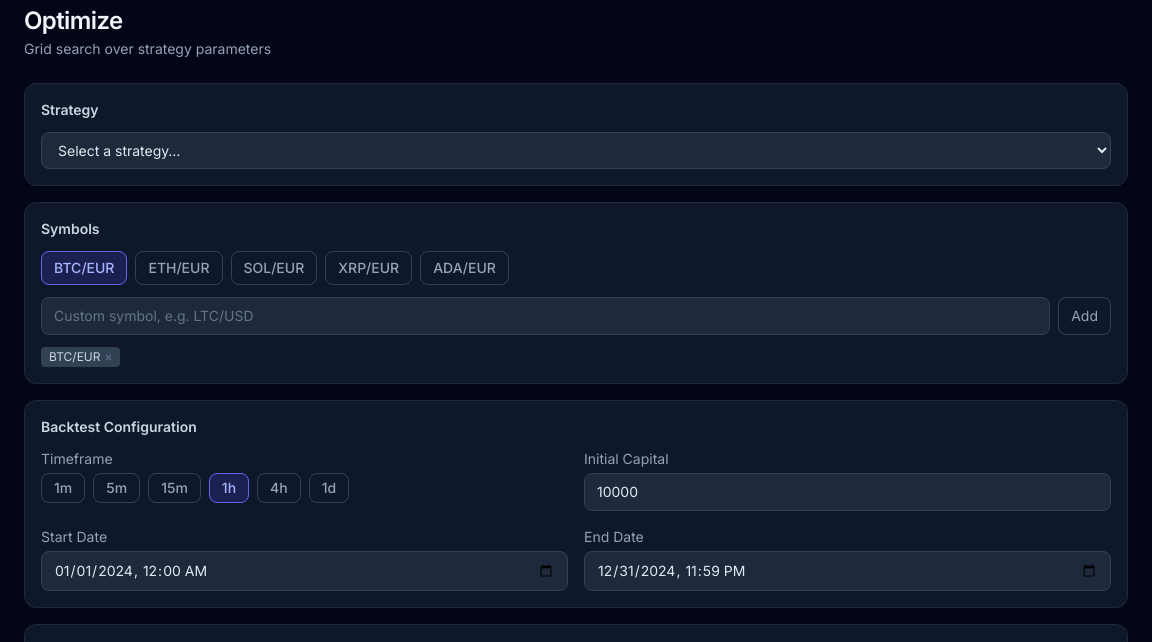
Test case: OptimizePage — Idempotency-Key on launch (C-2, UT-27) › 409 idempotency_in_progress shows a neutral message on the launch error banner
Select "momentum_breakout" in the 1st dropdown at point(576, 150), box [41,132,1111,169]
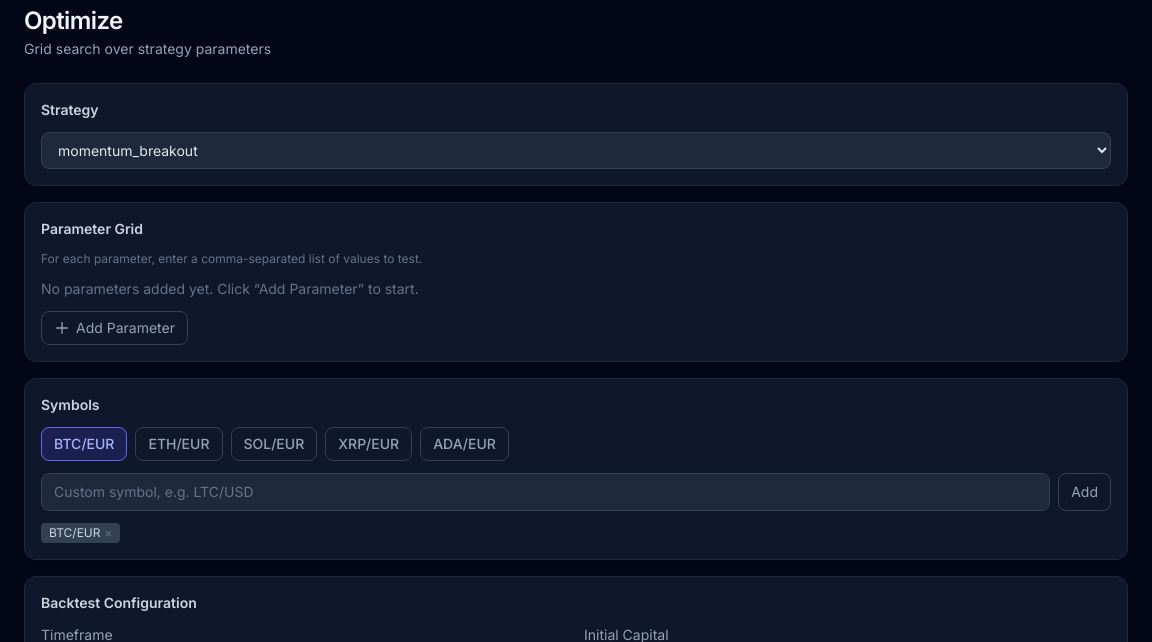
Click the button "Add Parameter" at point(114, 328), box [41,311,188,345]
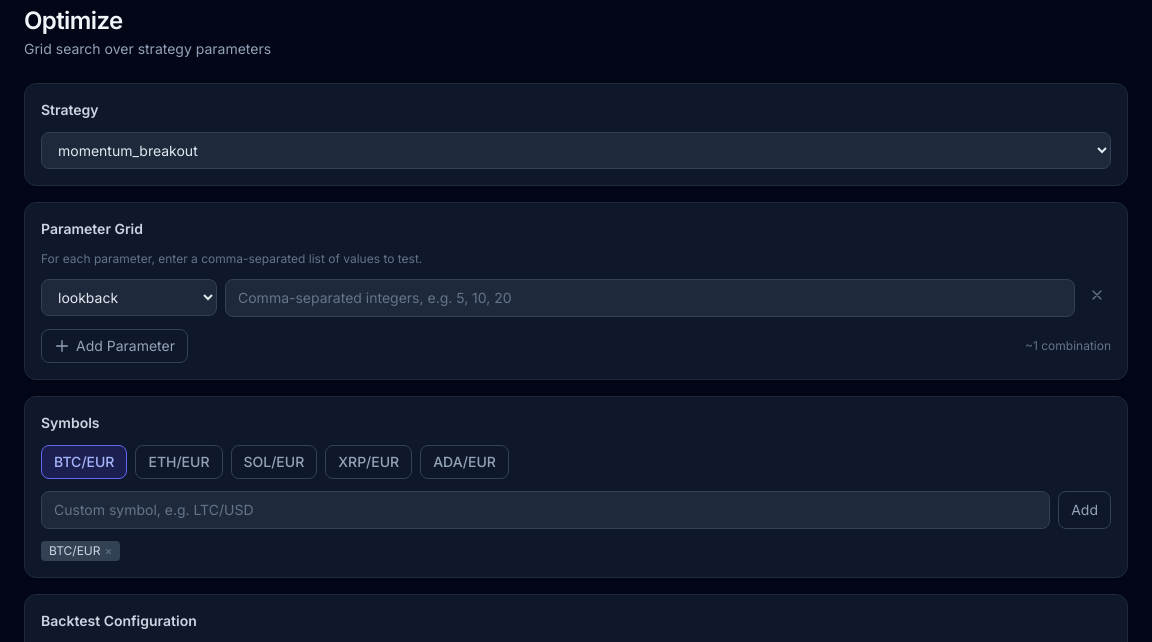
Type "5, 10" into the field with placeholder "Comma-separated integers, e.g. 5, 10, 20" at point(650, 298), box [225,279,1075,317]
(page scrolled)
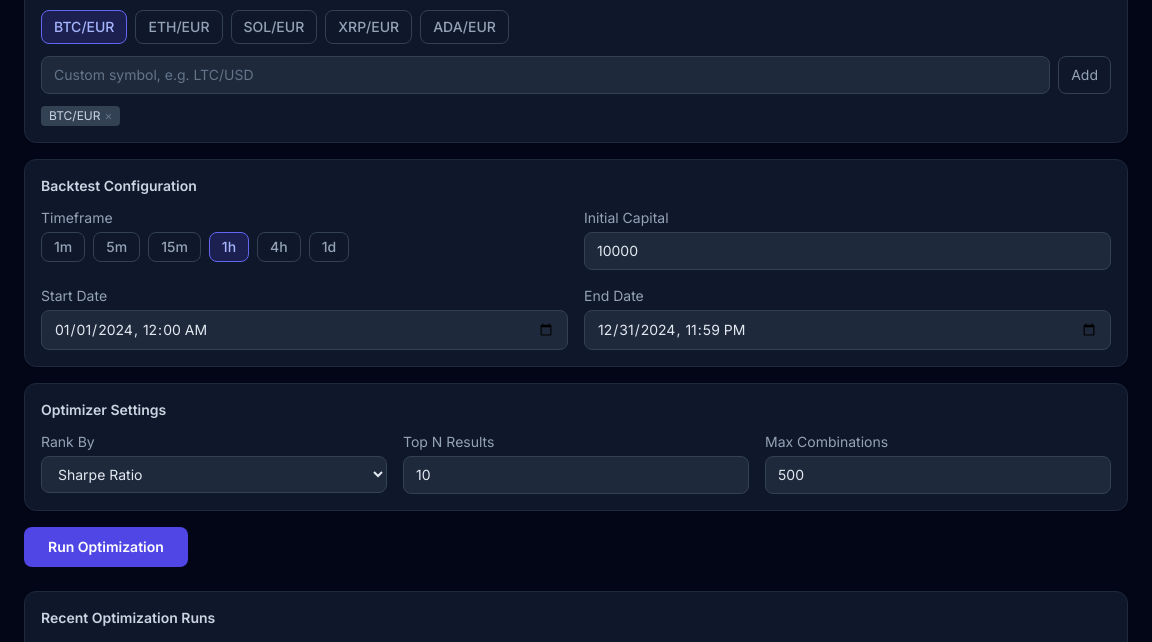
Click the button "Run Optimization" at point(106, 547), box [24,527,188,567]
(page scrolled)
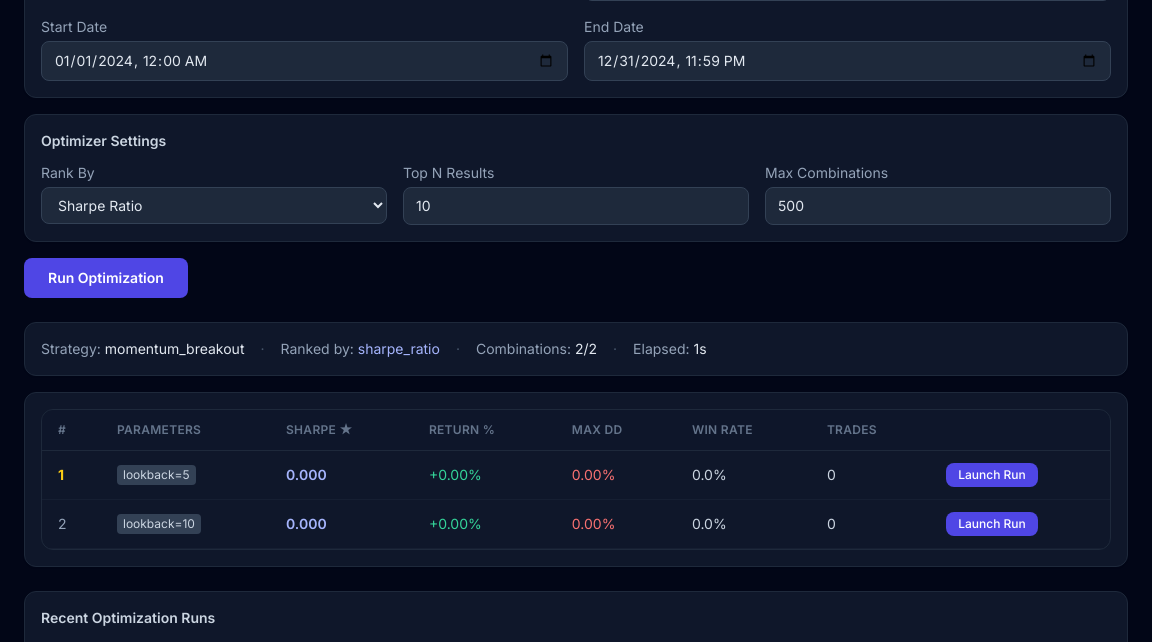
Expected: the text "Strategy:" is shown, [41,340,105,357]
Click the 1st button "Launch Run" at point(992, 475), box [946,463,1038,487]
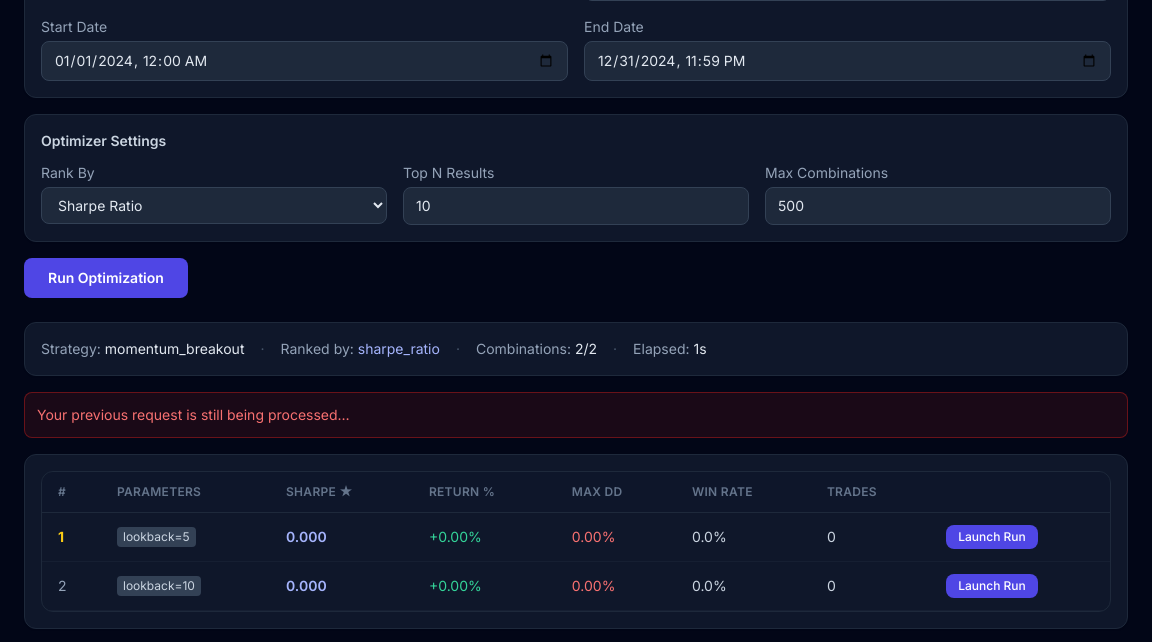
Expected: the text "Your previous request is still being processed…" is shown, [24,392,1128,438]
